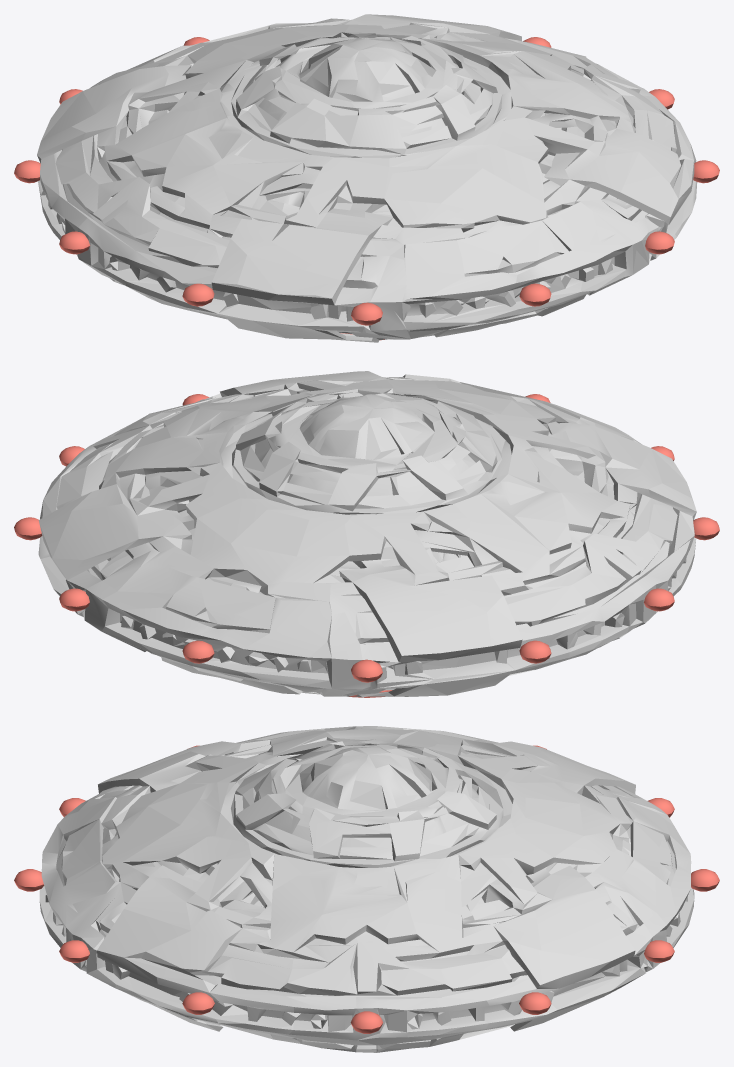
Rendered from Saucer.fbx.
The picture shows the model from 3 angles, top to bottom: view 1: azimuth 30°, elevation 25°; view 2: azimuth 150°, elevation 25°; view 3: azimuth 270°, elevation 25°; orthographic projection.
Visible parts, largest first — view 1: Saucer__mx_saucer, SaucerRim__glow; view 2: Saucer__mx_saucer, SaucerRim__glow; view 3: Saucer__mx_saucer, SaucerRim__glow.
Part boxes in pixels (box(x1,y1,x2,y2)): Saucer__mx_saucer: box(37, 14, 697, 342); SaucerRim__glow: box(14, 37, 719, 325); Saucer__mx_saucer: box(38, 371, 696, 697); SaucerRim__glow: box(14, 394, 719, 682); Saucer__mx_saucer: box(39, 726, 694, 1052); SaucerRim__glow: box(14, 745, 719, 1033).
Bounding box in the file's own units: 15.06 × 6.24 × 15.09.
